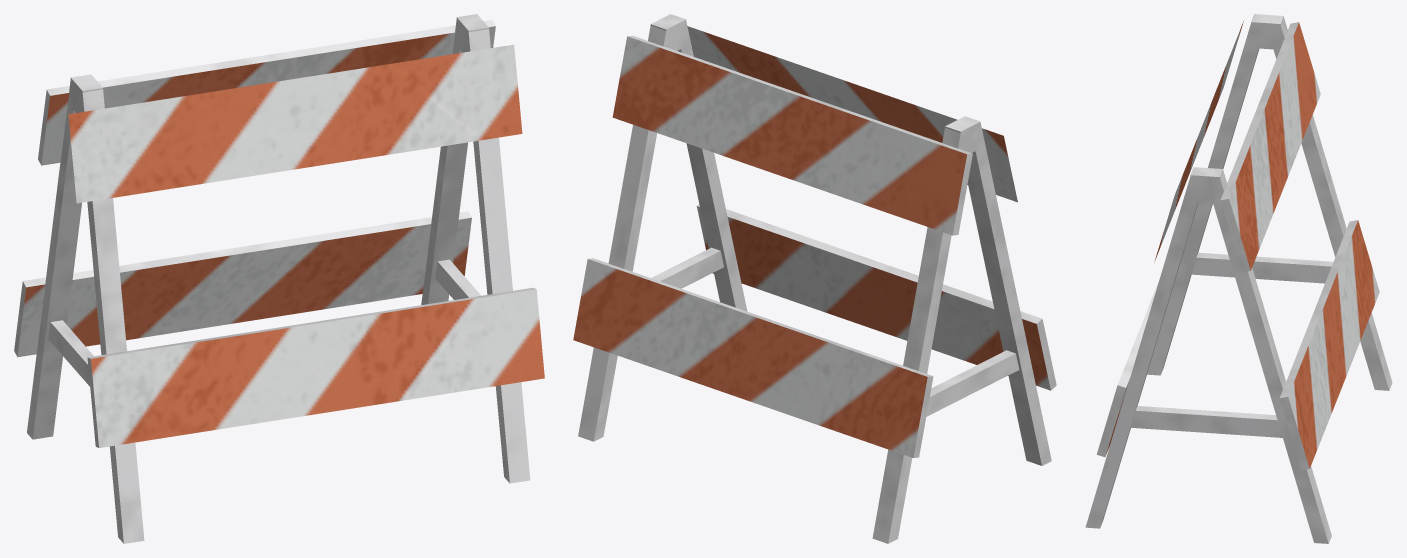
Rendered from A_Barricade_Traffic.fbx.
The picture shows the model from 3 angles, left to right: view 1: azimuth 30°, elevation 25°; view 2: azimuth 150°, elevation 25°; view 3: azimuth 270°, elevation 25°; orthographic projection. The views are drawn at different scales.
Parts seen in each view (by area): view 1: A_Barricade_Traffic; view 2: A_Barricade_Traffic; view 3: A_Barricade_Traffic.
Boxes of the visible parts, left/top/right/bottom form: A_Barricade_Traffic: left=14, top=14, right=544, bottom=543; A_Barricade_Traffic: left=573, top=14, right=1056, bottom=543; A_Barricade_Traffic: left=1085, top=14, right=1392, bottom=543.
Size of the model in its own units: 109 by 96.26 by 74.27.
